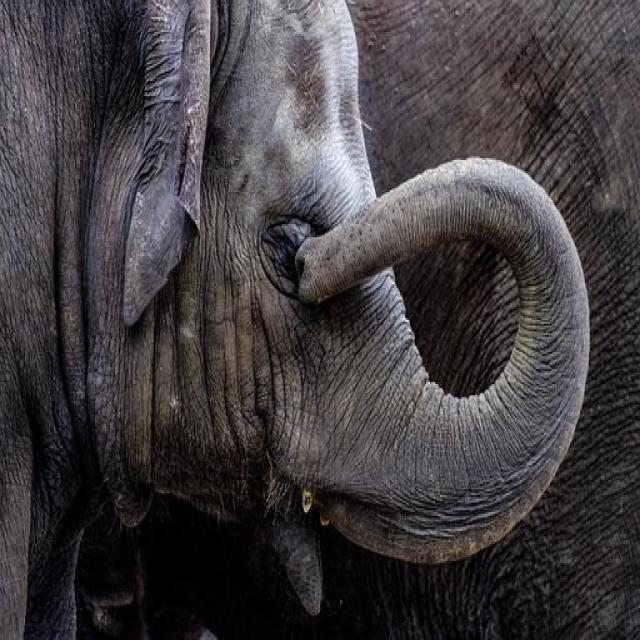Elephant: (12, 0, 595, 633)
